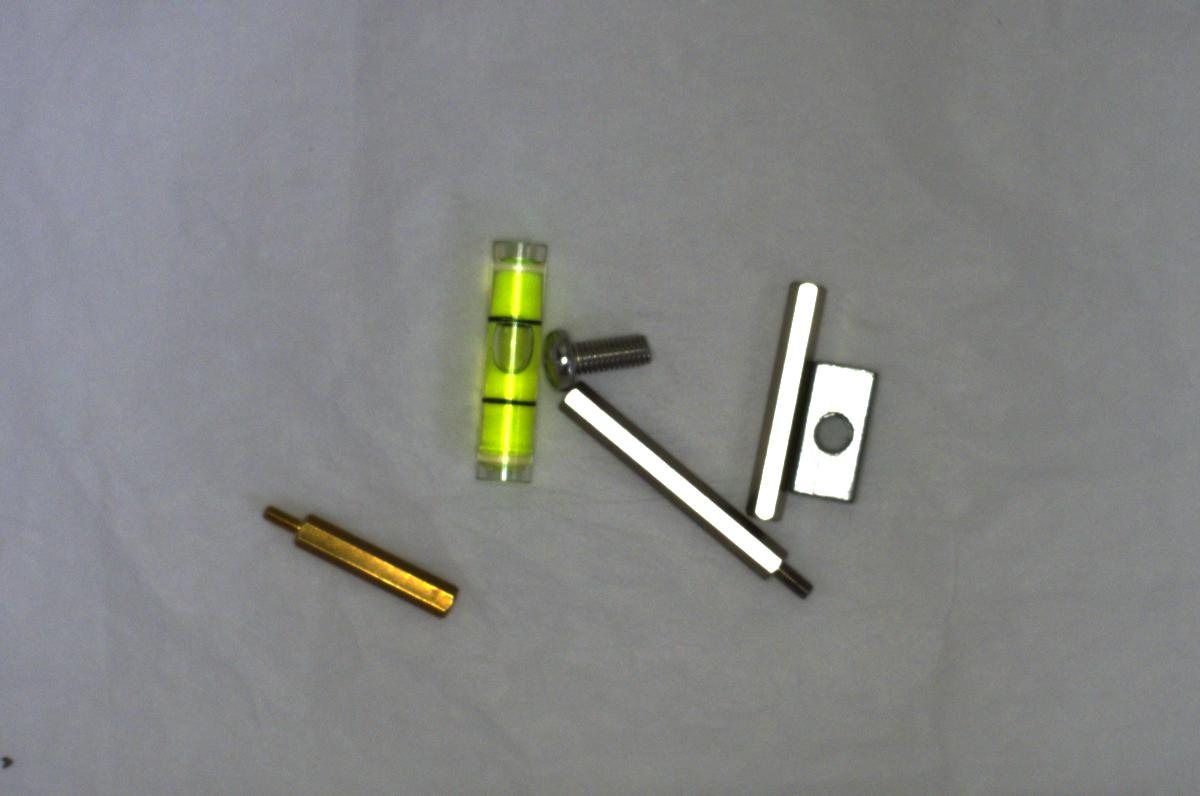Double hexagonal column: (746, 279, 813, 527)
Hexagon pillar: (244, 492, 470, 623)
Hexagonal steel column: (551, 383, 815, 601)
Horizontal bubble: (470, 232, 548, 493)
Rectangular nut: (792, 358, 878, 508)
Round head screw: (539, 319, 657, 392)
